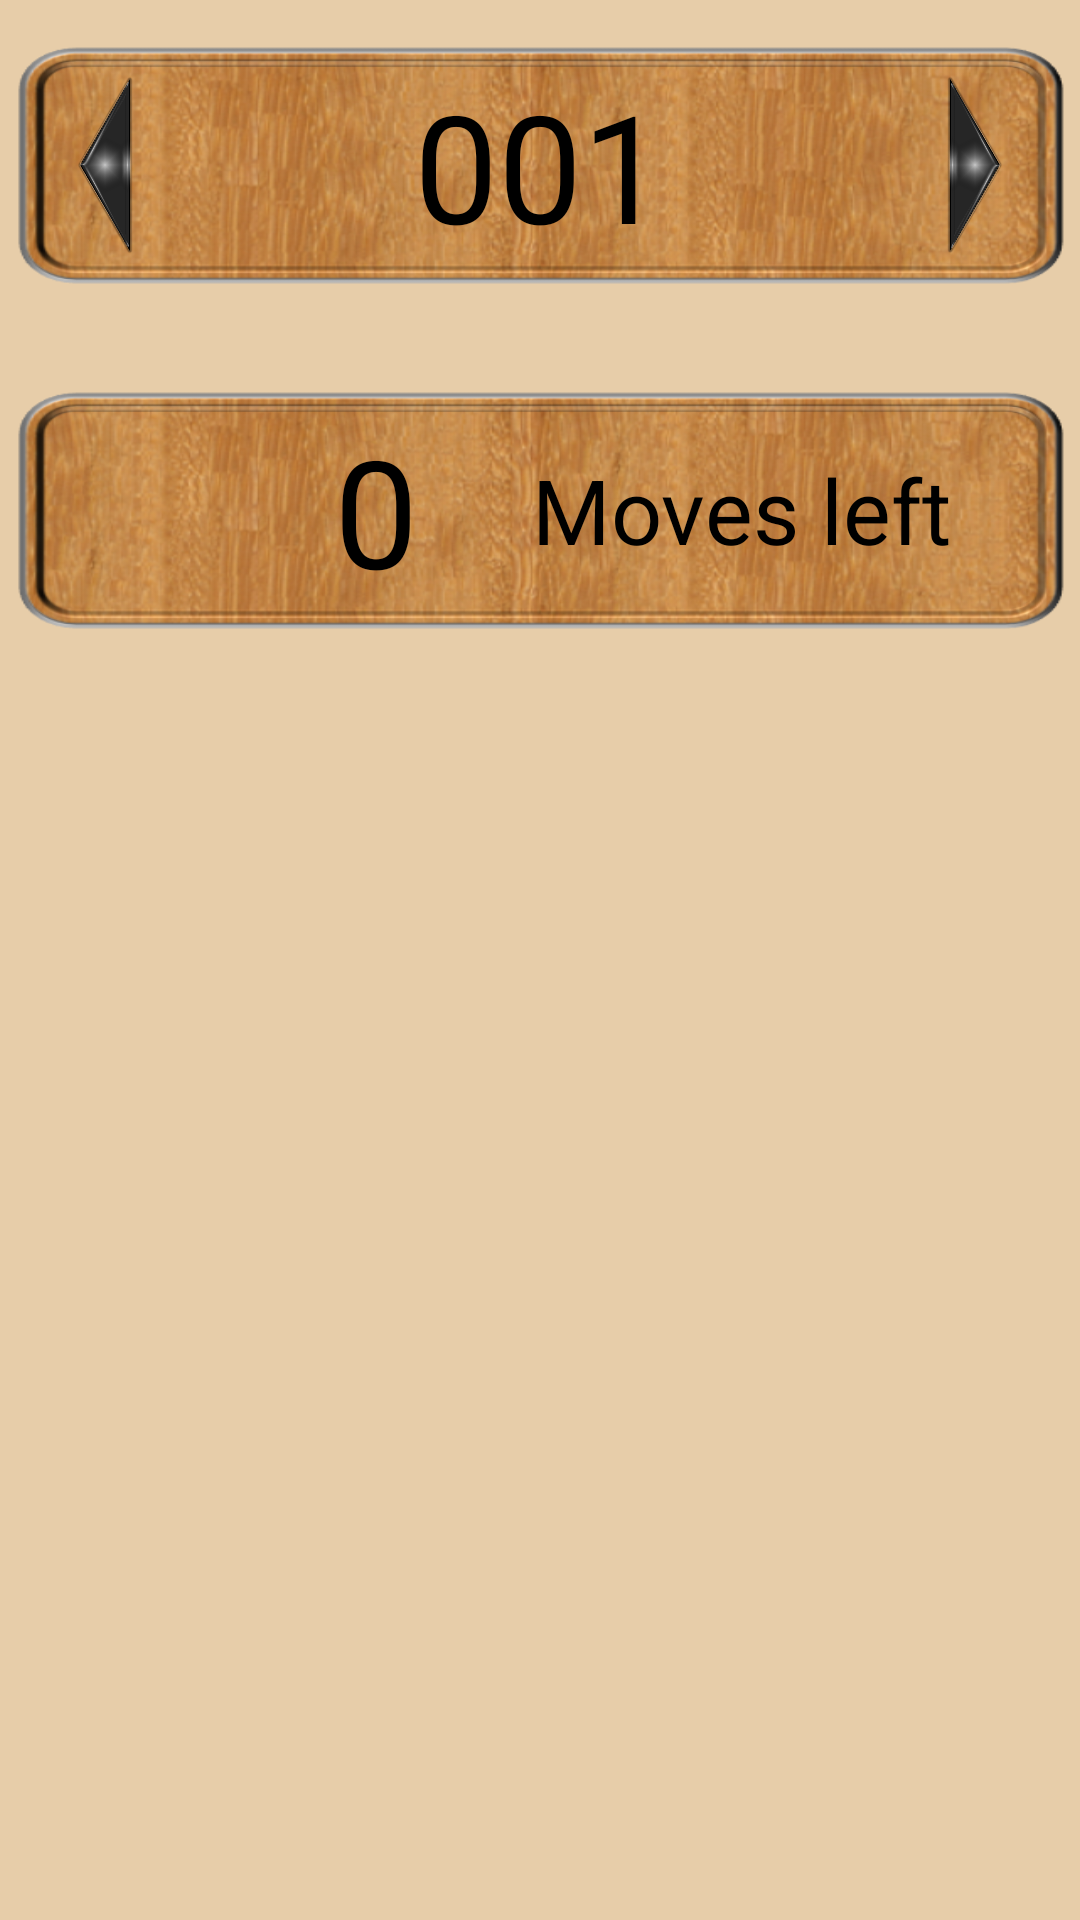

Where to tap for icons on this 1080px×1920px app screen, as (x,y):
next: (975,165)
prev: (105,165)
